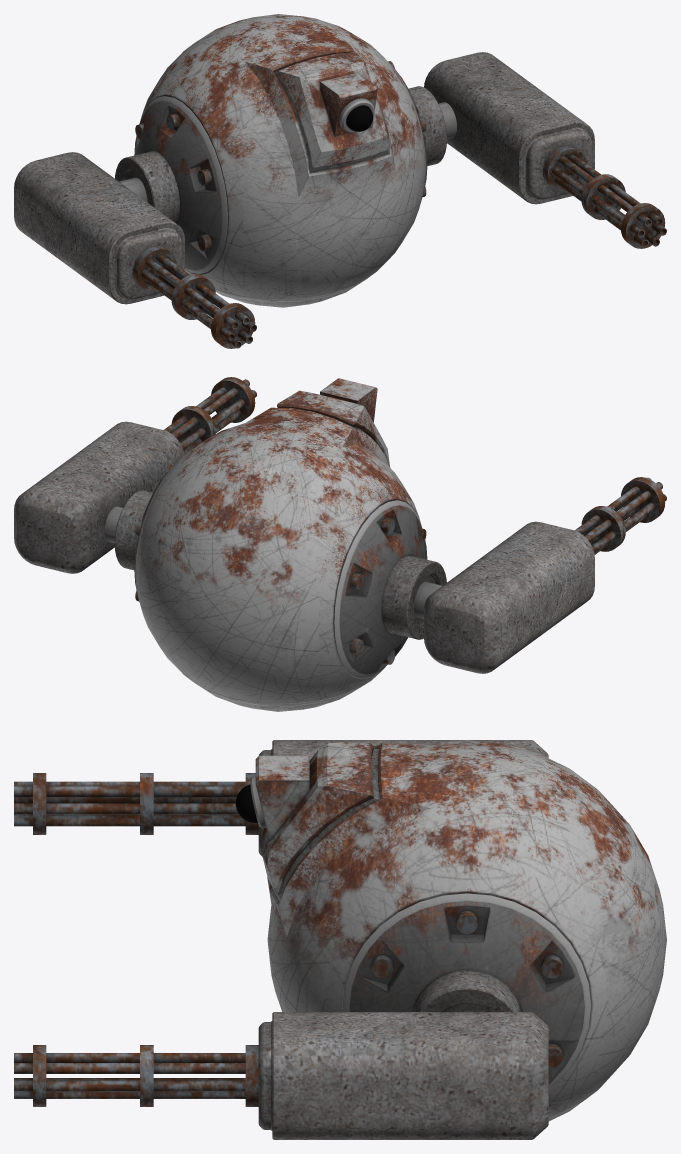
3 views of the same model, one above another, from view 1: azimuth 30°, elevation 25°; view 2: azimuth 150°, elevation 25°; view 3: azimuth 270°, elevation 25° (orthographic). The views are drawn at different scales.
Parts seen in each view (by area): view 1: drone; view 2: drone; view 3: drone.
Boxes of the visible parts, x1,y1,x2,y2 form: drone: [14, 14, 666, 348]; drone: [14, 377, 666, 711]; drone: [14, 740, 666, 1139].
Bounding box in the file's own units: 3.82 × 2 × 3.27.
Materials: 1 (1 with a texture image).
